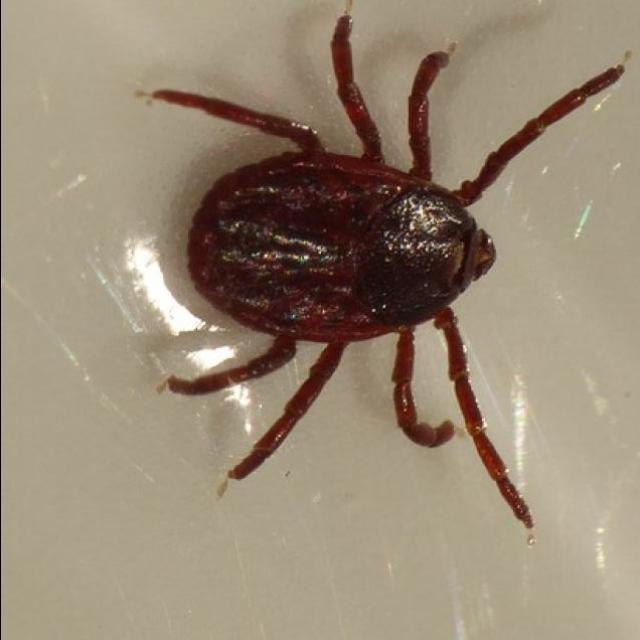Rhipicephalus Sanguineus-F: (148, 15, 622, 534)
